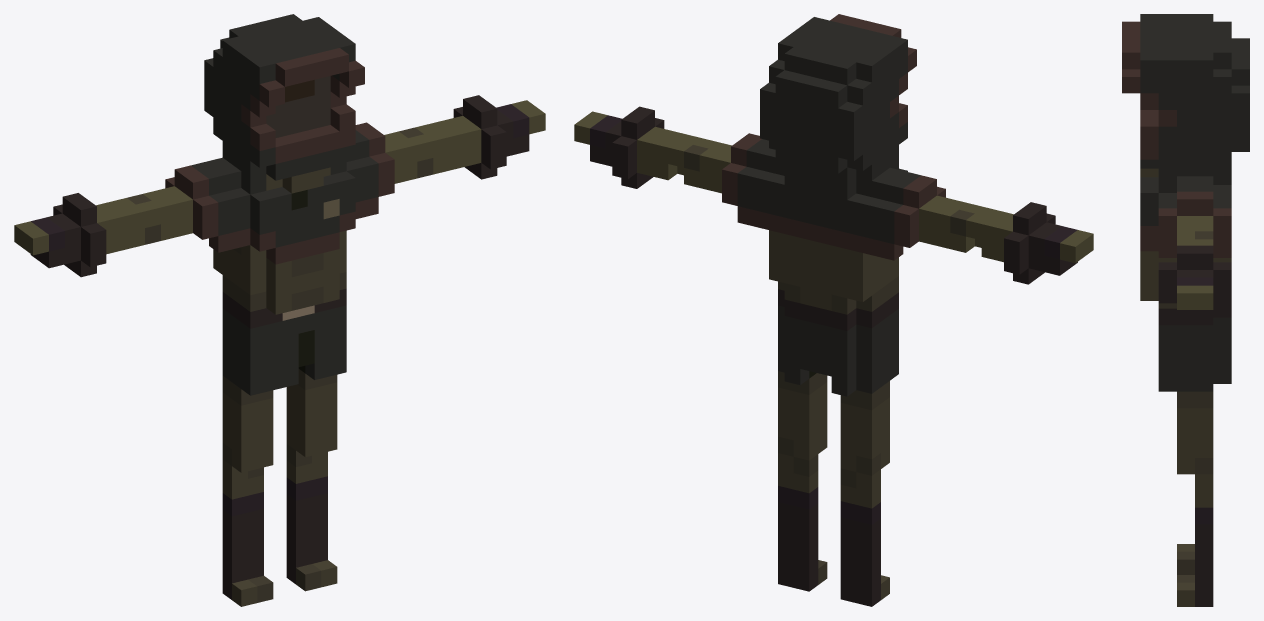
File: TPose_Character01.glb
3 views of the same model, side by side, from view 1: azimuth 30°, elevation 25°; view 2: azimuth 150°, elevation 25°; view 3: azimuth 270°, elevation 25° (orthographic). The views are drawn at different scales.
Parts seen in each view (by area): view 1: Character01; view 2: Character01; view 3: Character01.
Part boxes in pixels (x1=…): Character01: x1=14, y1=14, x2=545, y2=606; Character01: x1=574, y1=14, x2=1093, y2=606; Character01: x1=1122, y1=14, x2=1249, y2=606.
Bounding box in the file's own units: 1.94 × 2 × 0.4241.
Materials: 1 (1 with a texture image).
